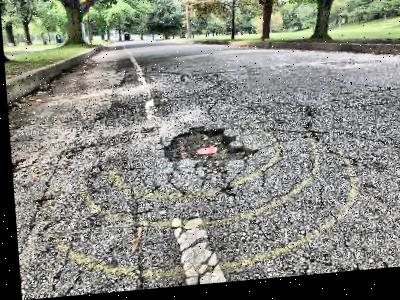pothole: (154, 124, 256, 175)
